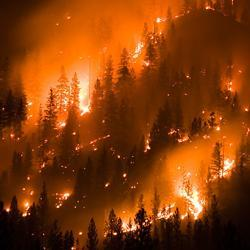fire: (178, 181, 202, 215), (78, 81, 89, 114), (221, 158, 233, 173)
